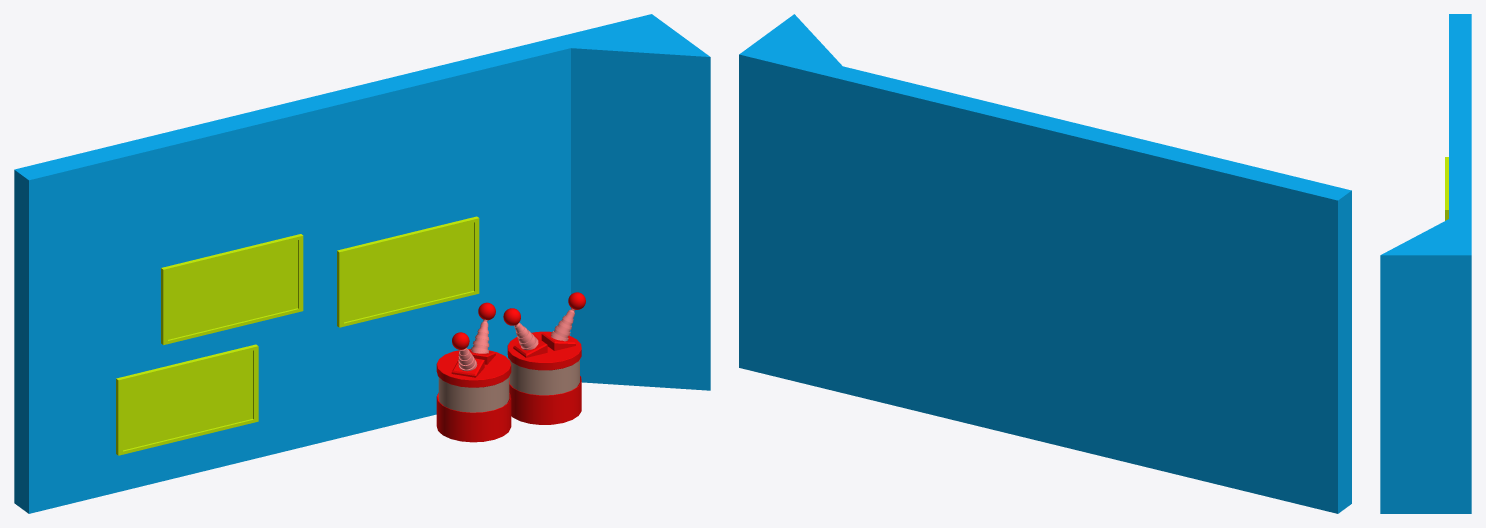
File: 1x1WallVariation1.fbx
3 views of the same model, side by side, from view 1: azimuth 30°, elevation 25°; view 2: azimuth 150°, elevation 25°; view 3: azimuth 270°, elevation 25° (orthographic). The views are drawn at different scales.
Visible parts, largest first — view 1: Wall, Billboard (×3), DynamoBase (×2), DynamoVidrio (×2), DynamoTop (×2); view 2: Wall; view 3: Wall, Billboard.
Part boxes in pixels (left/top/right/bottom): Wall: left=14, top=14, right=710, bottom=513; Billboard (×3): left=116, top=216, right=479, bottom=455; DynamoBase (×2): left=436, top=376, right=581, bottom=442; DynamoVidrio (×2): left=438, top=359, right=579, bottom=412; DynamoTop (×2): left=436, top=331, right=581, bottom=387; Wall: left=739, top=14, right=1351, bottom=513; Wall: left=1380, top=14, right=1471, bottom=513; Billboard: left=1445, top=157, right=1448, bottom=220.
Size of the model in its own units: 100 by 50 by 16.
